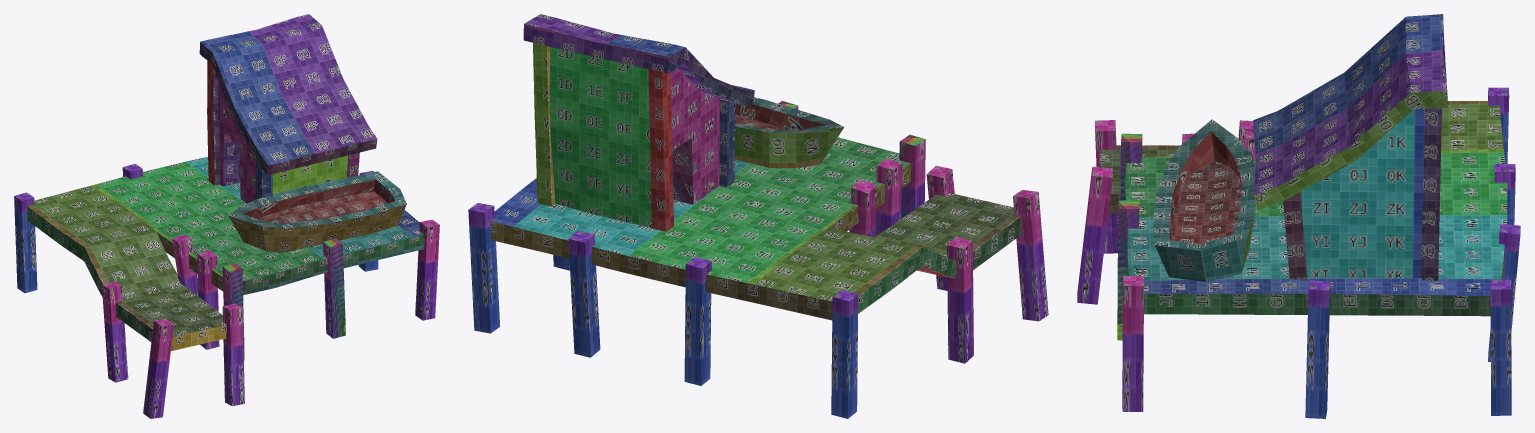
File: fisherman.fbx
The picture shows the model from 3 angles, left to right: view 1: azimuth 30°, elevation 25°; view 2: azimuth 150°, elevation 25°; view 3: azimuth 270°, elevation 25°; orthographic projection. The views are drawn at different scales.
Parts seen in each view (by area): view 1: fisherman; view 2: fisherman; view 3: fisherman.
Part boxes in pixels (left/top/right/bottom): fisherman: left=14, top=14, right=439, bottom=418; fisherman: left=468, top=14, right=1048, bottom=418; fisherman: left=1077, top=14, right=1520, bottom=418.
Size of the model in its own units: 827 by 644 by 742.
